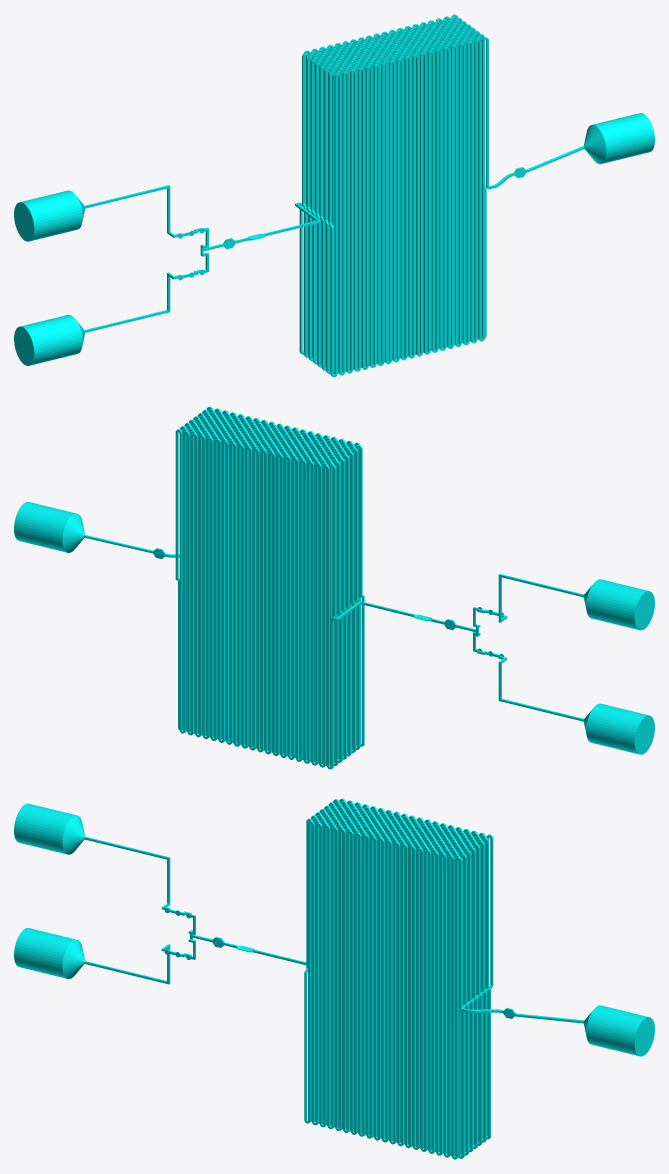
File: void_fluidic.glb
3 renders of one model, top to bottom at view 1: azimuth 30°, elevation 25°; view 2: azimuth 150°, elevation 25°; view 3: azimuth 330°, elevation 25°, orthographic.
Visible parts, largest first — view 1: world; view 2: world; view 3: world.
Part boxes in pixels (x1,y1,x2,y2): world: [14, 14, 654, 377]; world: [14, 406, 654, 769]; world: [14, 798, 654, 1159].
Bounding box in the file's own units: 19.46 × 9.06 × 1.74.
